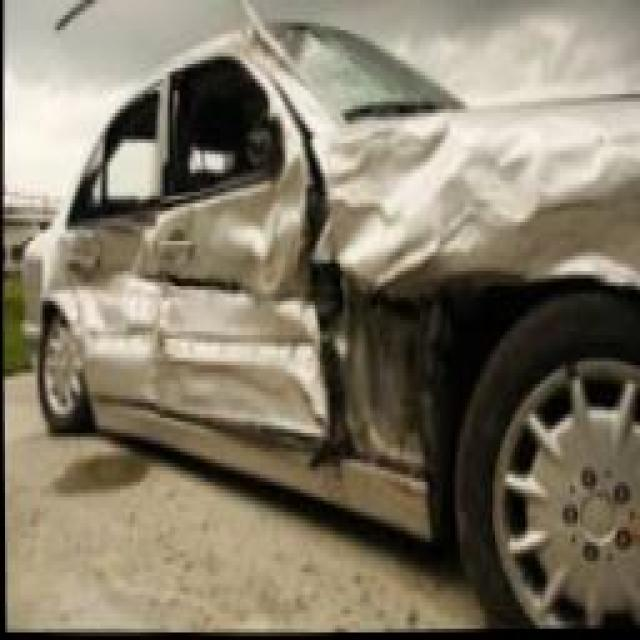Door: (161, 52, 336, 455), (54, 75, 163, 409)
Fender: (322, 98, 640, 537)
Windshield: (258, 28, 472, 125)
